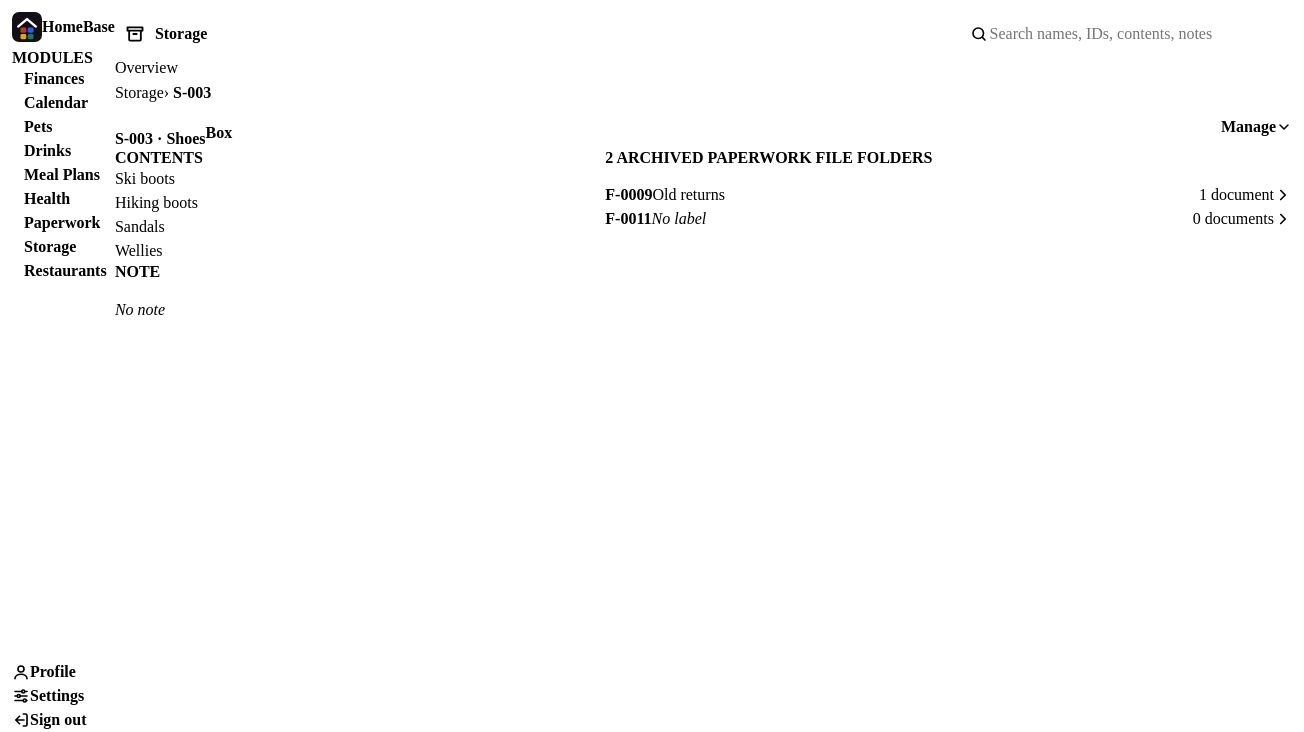
Scenario: a Storage entry (REQ-107, REQ-98) › shows no forms until Manage is opened, and its menu has edit, label and remove
Click the button "Manage": (1256, 127) [1221,105,1292,149]
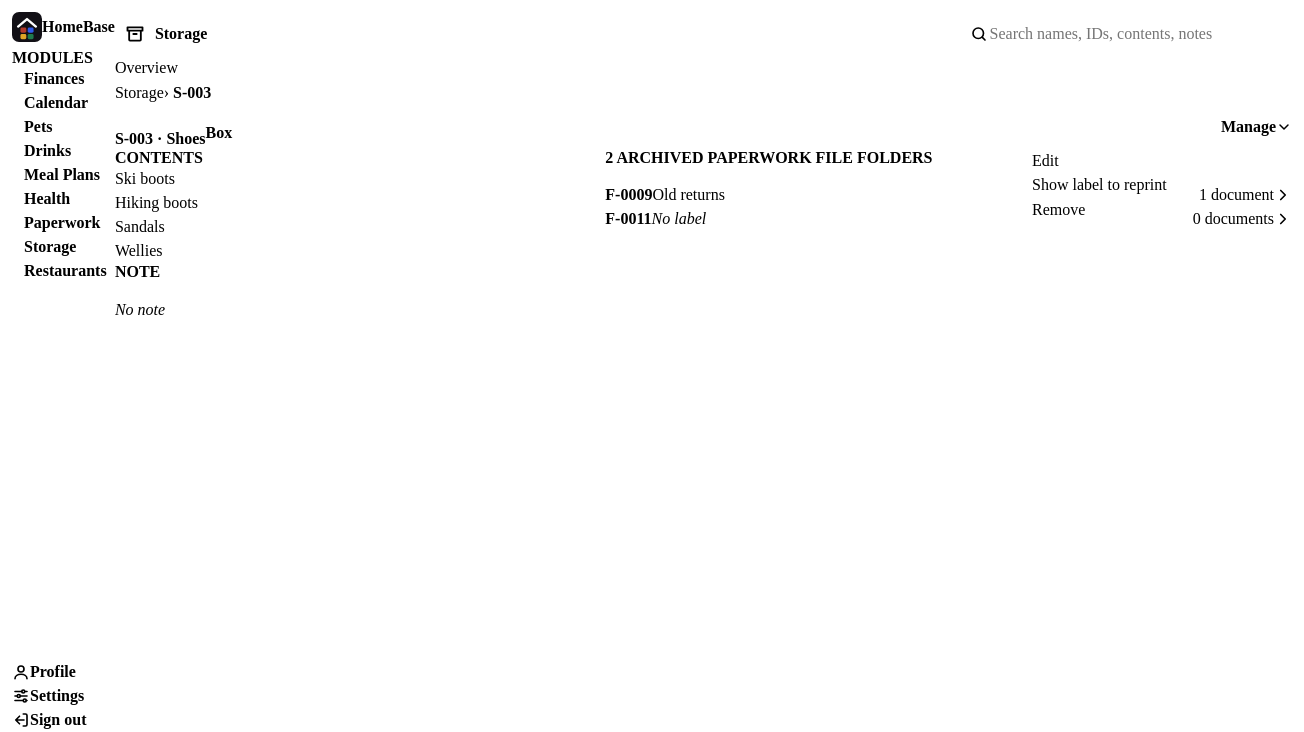
Expected: the buttons read "Edit", "Show label to reprint", "Remove", in this order, [1032,149,1292,173]; [1032,173,1292,197]; [1032,198,1292,222]
